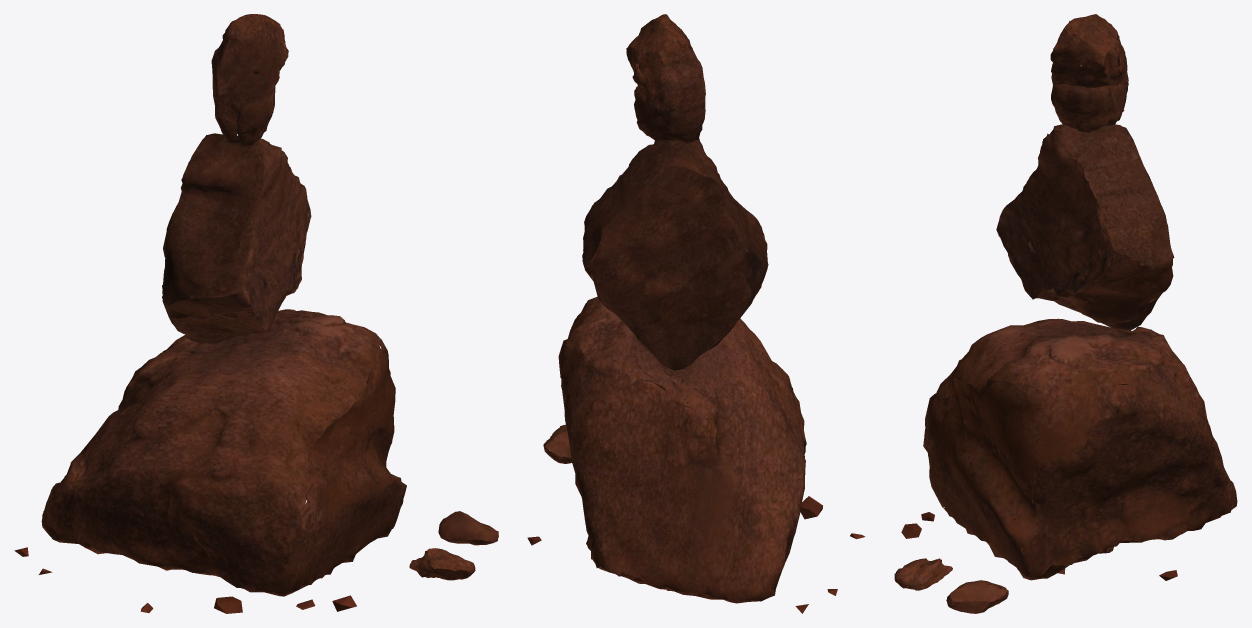
File: rock_spire.glb
3 views of the same model, side by side, from view 1: azimuth 30°, elevation 25°; view 2: azimuth 150°, elevation 25°; view 3: azimuth 270°, elevation 25° (orthographic). The views are drawn at different scales.
Visible parts, largest first — view 1: rock_spire; view 2: rock_spire; view 3: rock_spire.
Part boxes in pixels (<box>): rock_spire: <box>14,14,498,613</box>; rock_spire: <box>527,14,865,613</box>; rock_spire: <box>894,14,1237,613</box>.
Bounding box in the file's own units: 4.58 × 6.25 × 3.73.
1 material, 1 textured.
